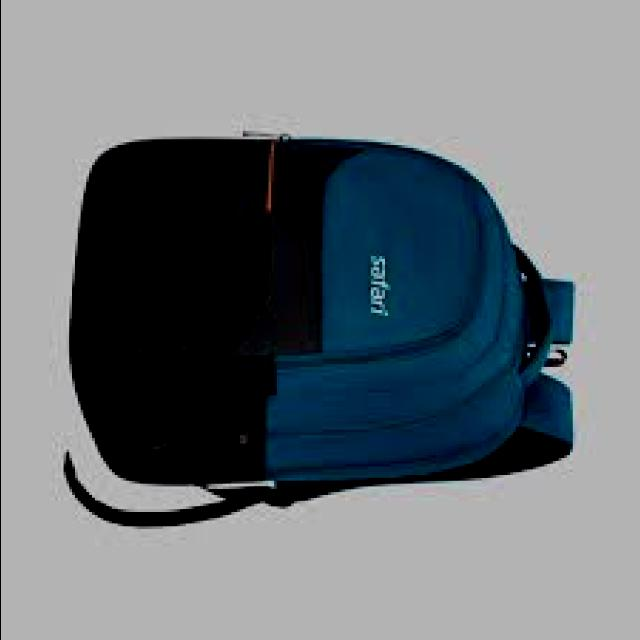backpack: (64, 132, 579, 528)
